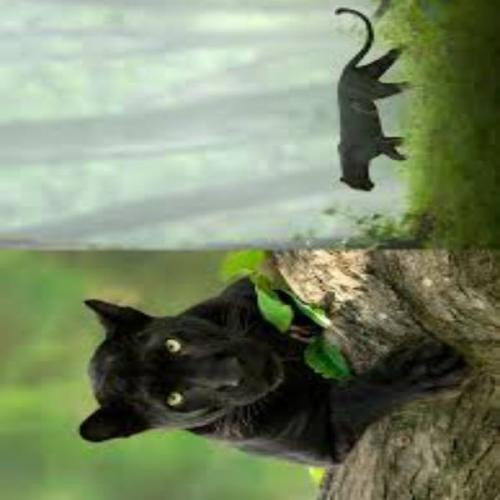panther-endangered: (74, 272, 471, 445), (332, 7, 407, 190)
